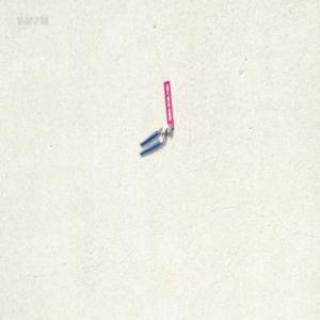LuggageTagtrack_idkeyframe: (162, 78, 174, 130)
Pliertrack_idkeyframe: (138, 123, 171, 157)
